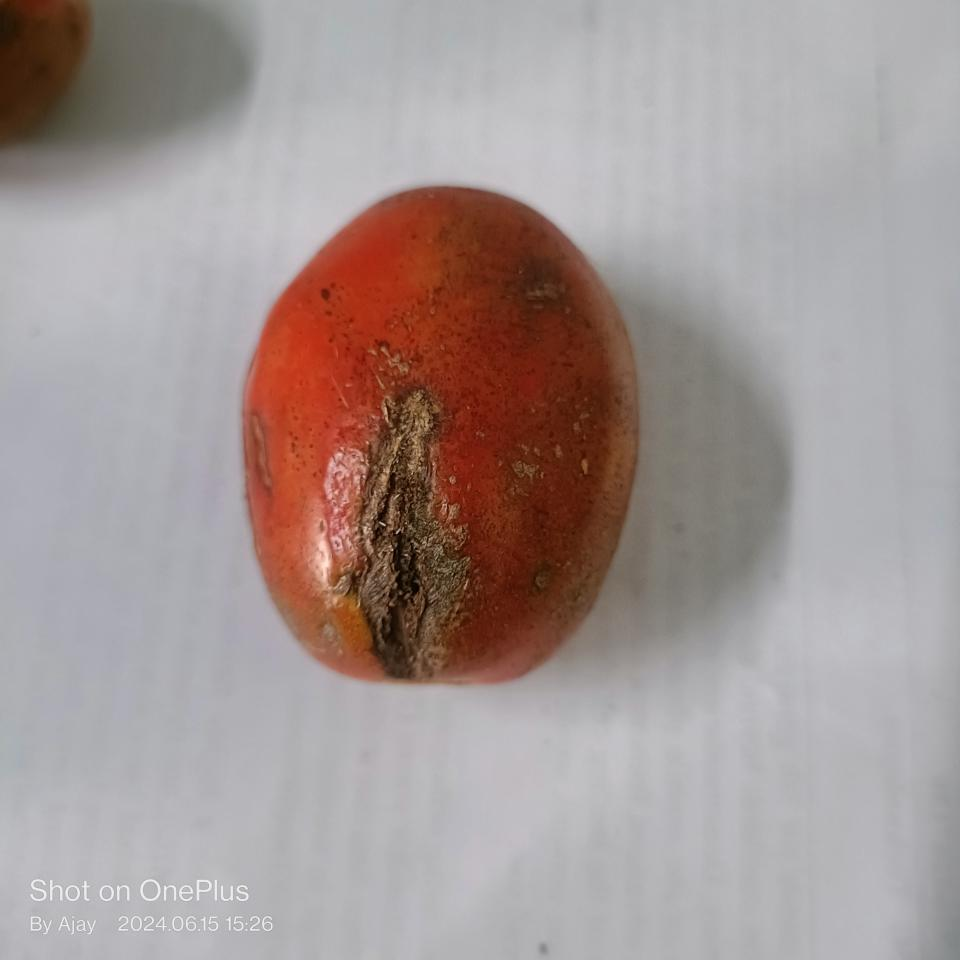Cracking: (339, 339, 488, 698)
